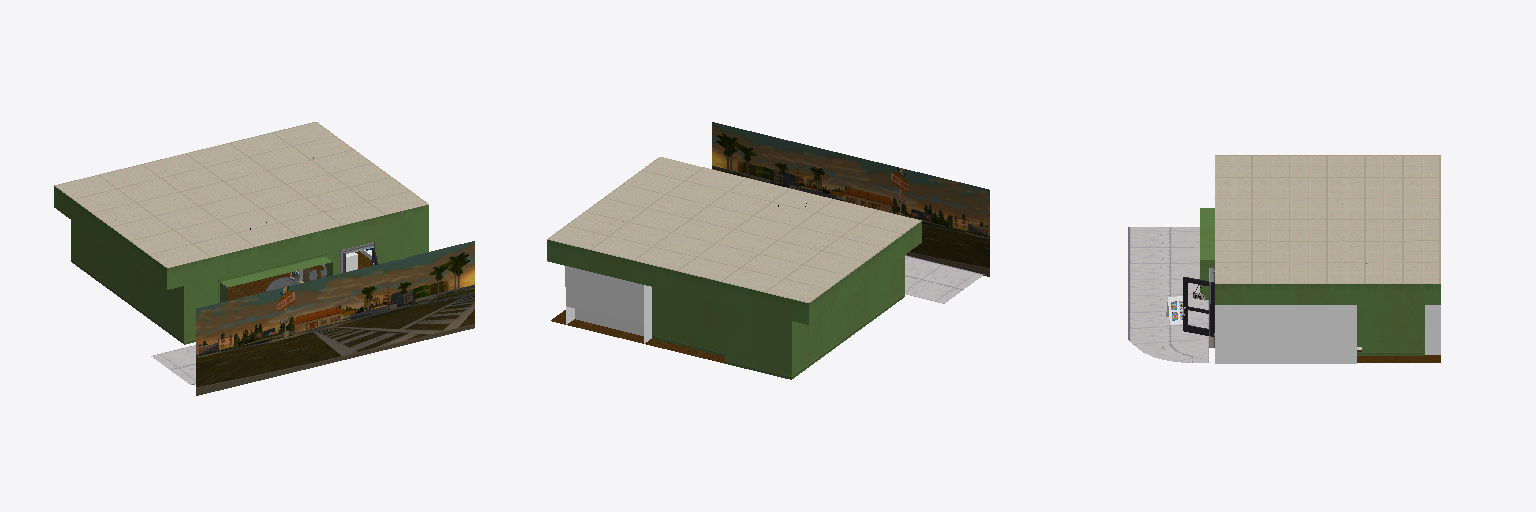
3 views of the same model, side by side, from view 1: azimuth 30°, elevation 25°; view 2: azimuth 150°, elevation 25°; view 3: azimuth 270°, elevation 25° (orthographic).
Parts seen in each view (by area): view 1: TADnBSC; view 2: TADnBSC; view 3: TADnBSC.
Part boxes in pixels (x1,y1,x2,y2): TADnBSC: (54,122,474,395); TADnBSC: (547,122,989,379); TADnBSC: (1128,155,1440,363).
Bounding box in the file's own units: 12.77 × 4.01 × 12.77.
Materials: 39 (35 with a texture image).